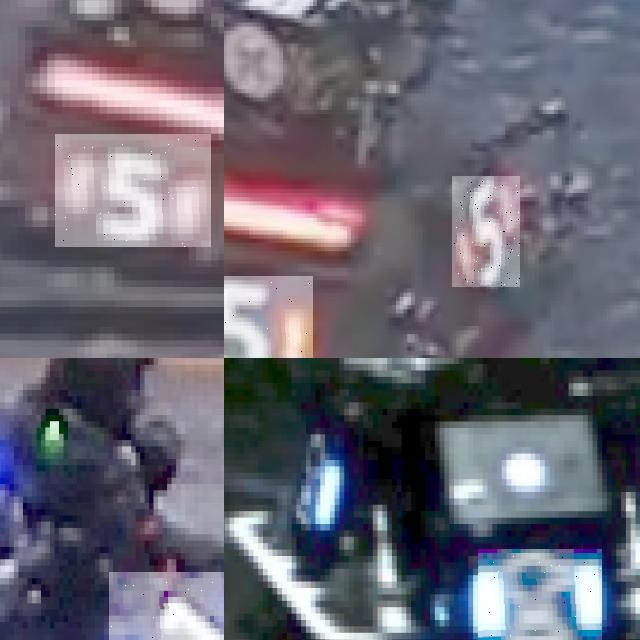B1: (108, 572, 224, 640)
Bs: (478, 549, 602, 640)
R5: (55, 134, 211, 247), (452, 176, 520, 288), (224, 276, 313, 358)
